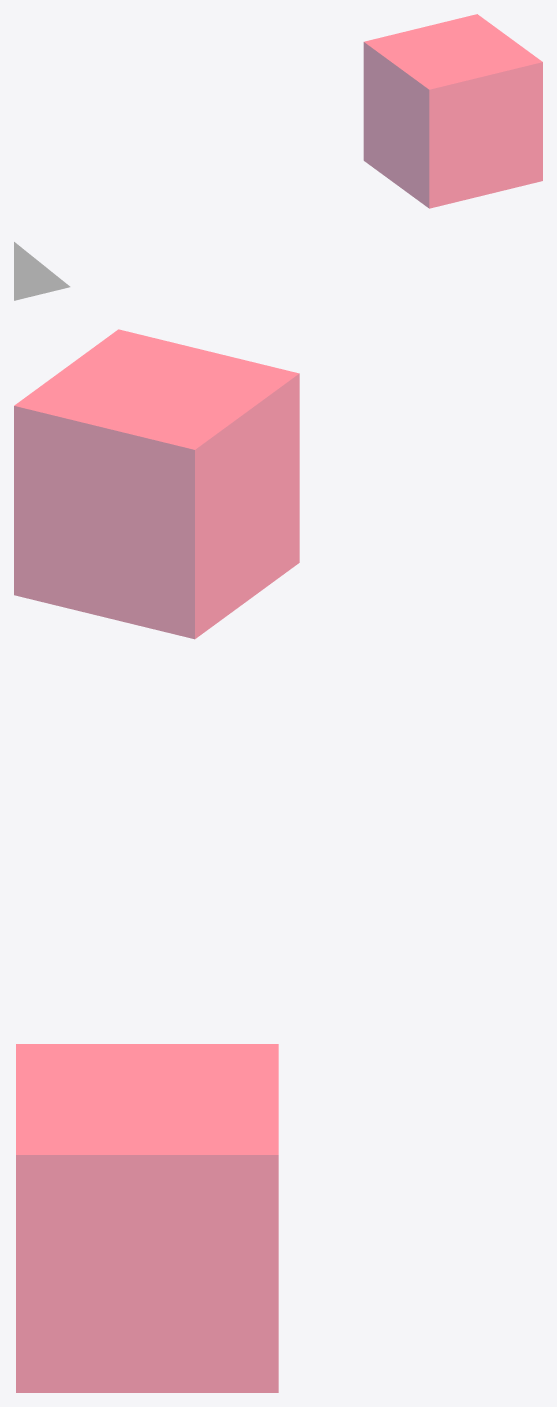
3 views of the same model, one above another, from view 1: azimuth 30°, elevation 25°; view 2: azimuth 150°, elevation 25°; view 3: azimuth 270°, elevation 25° (orthographic). The views are drawn at different scales.
Parts seen in each view (by area): view 1: Cube, Triangle; view 2: Cube; view 3: Cube.
Boxes of the visible parts, x1,y1,x2,y2 form: Cube: [363, 14, 542, 208]; Triangle: [14, 242, 70, 300]; Cube: [14, 329, 299, 639]; Cube: [16, 1044, 278, 1392].
Bounding box in the file's own units: 7 × 4 × 4.
1 material, 1 textured.
